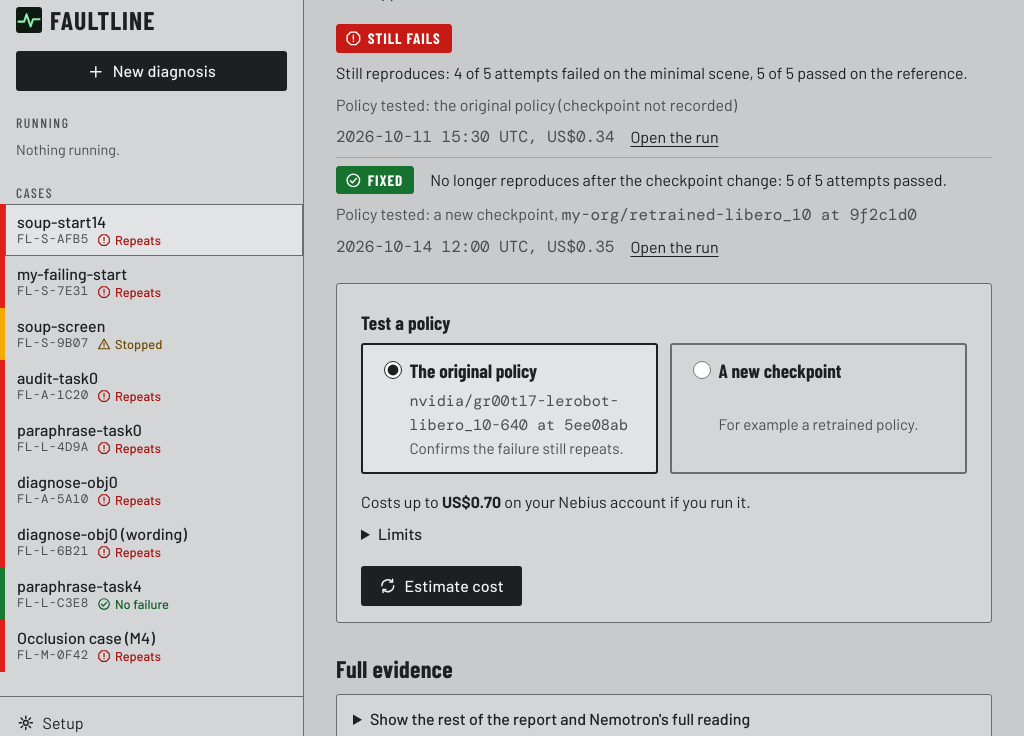
it: regression test on a case page › explains the two checkpoint fields and what kind of checkpoint fits
(page scrolled)
Click the radio button labelled "A new checkpoint For example a retrained policy." at (702, 370), box [693,360,711,379]
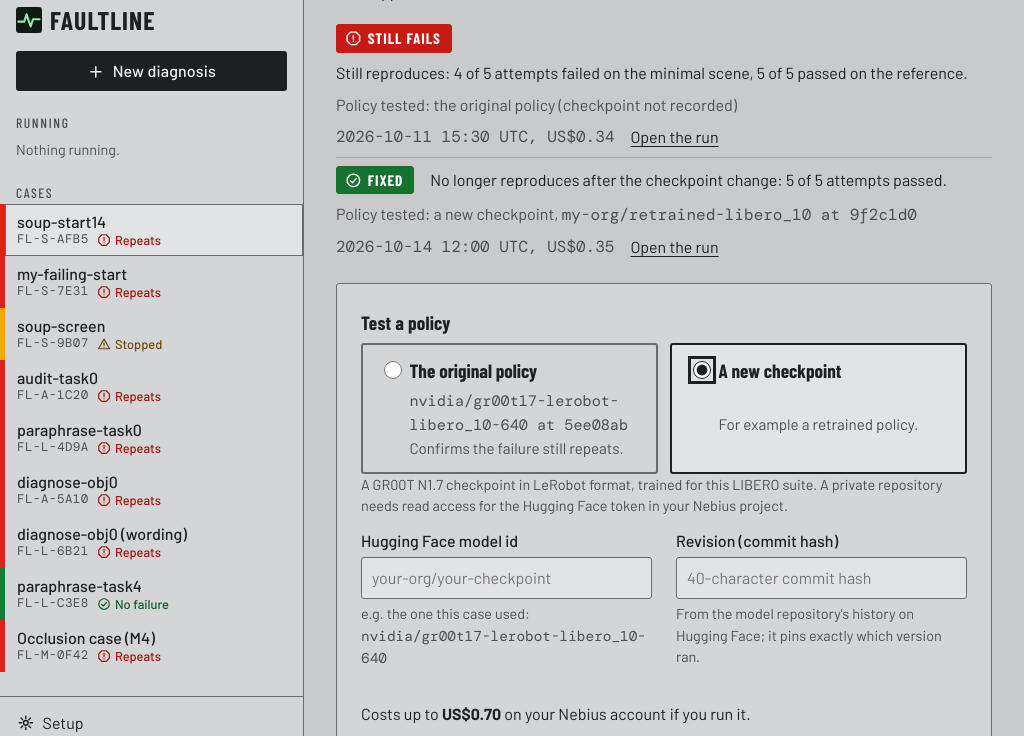
Check: the text "A GR00T N1.7 checkpoint in LeRobot format, trained for this LIBERO suite. A private repository needs read access" is shown, box [361,476,942,514]
